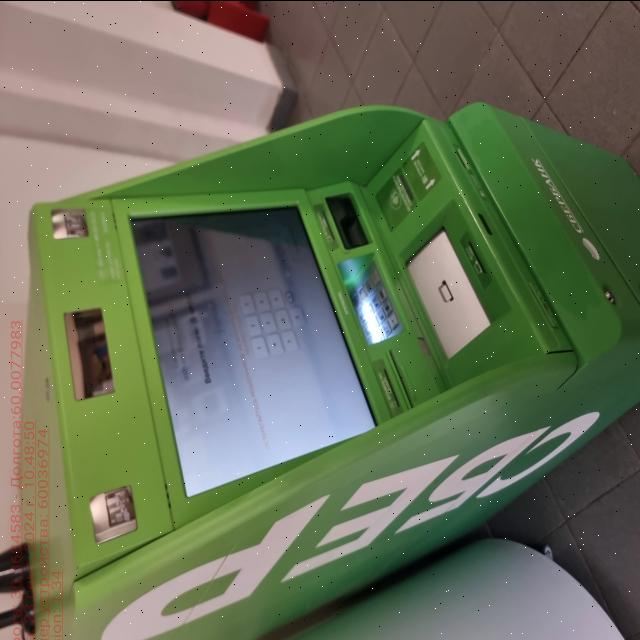bank: (11, 100, 640, 640)
